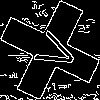V: (25, 25, 81, 75)
